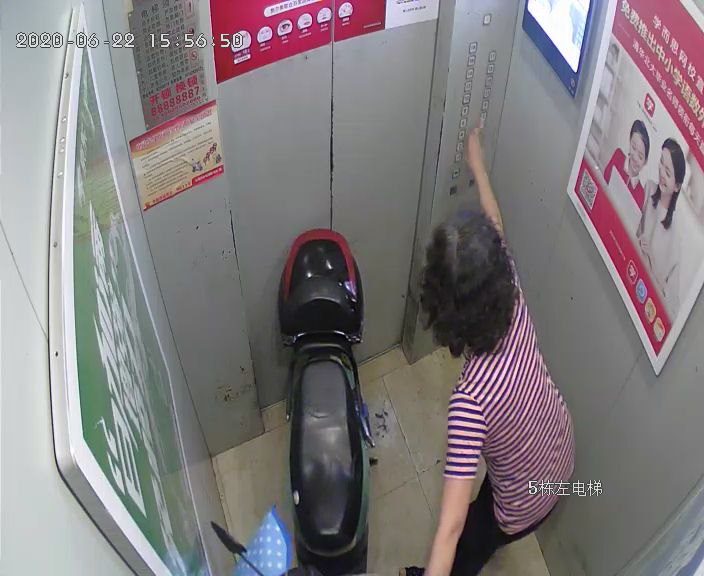Electric-bicycle: (210, 228, 375, 576)
